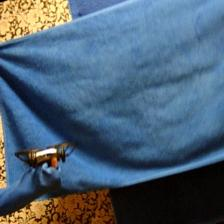drone: (11, 142, 83, 168)
